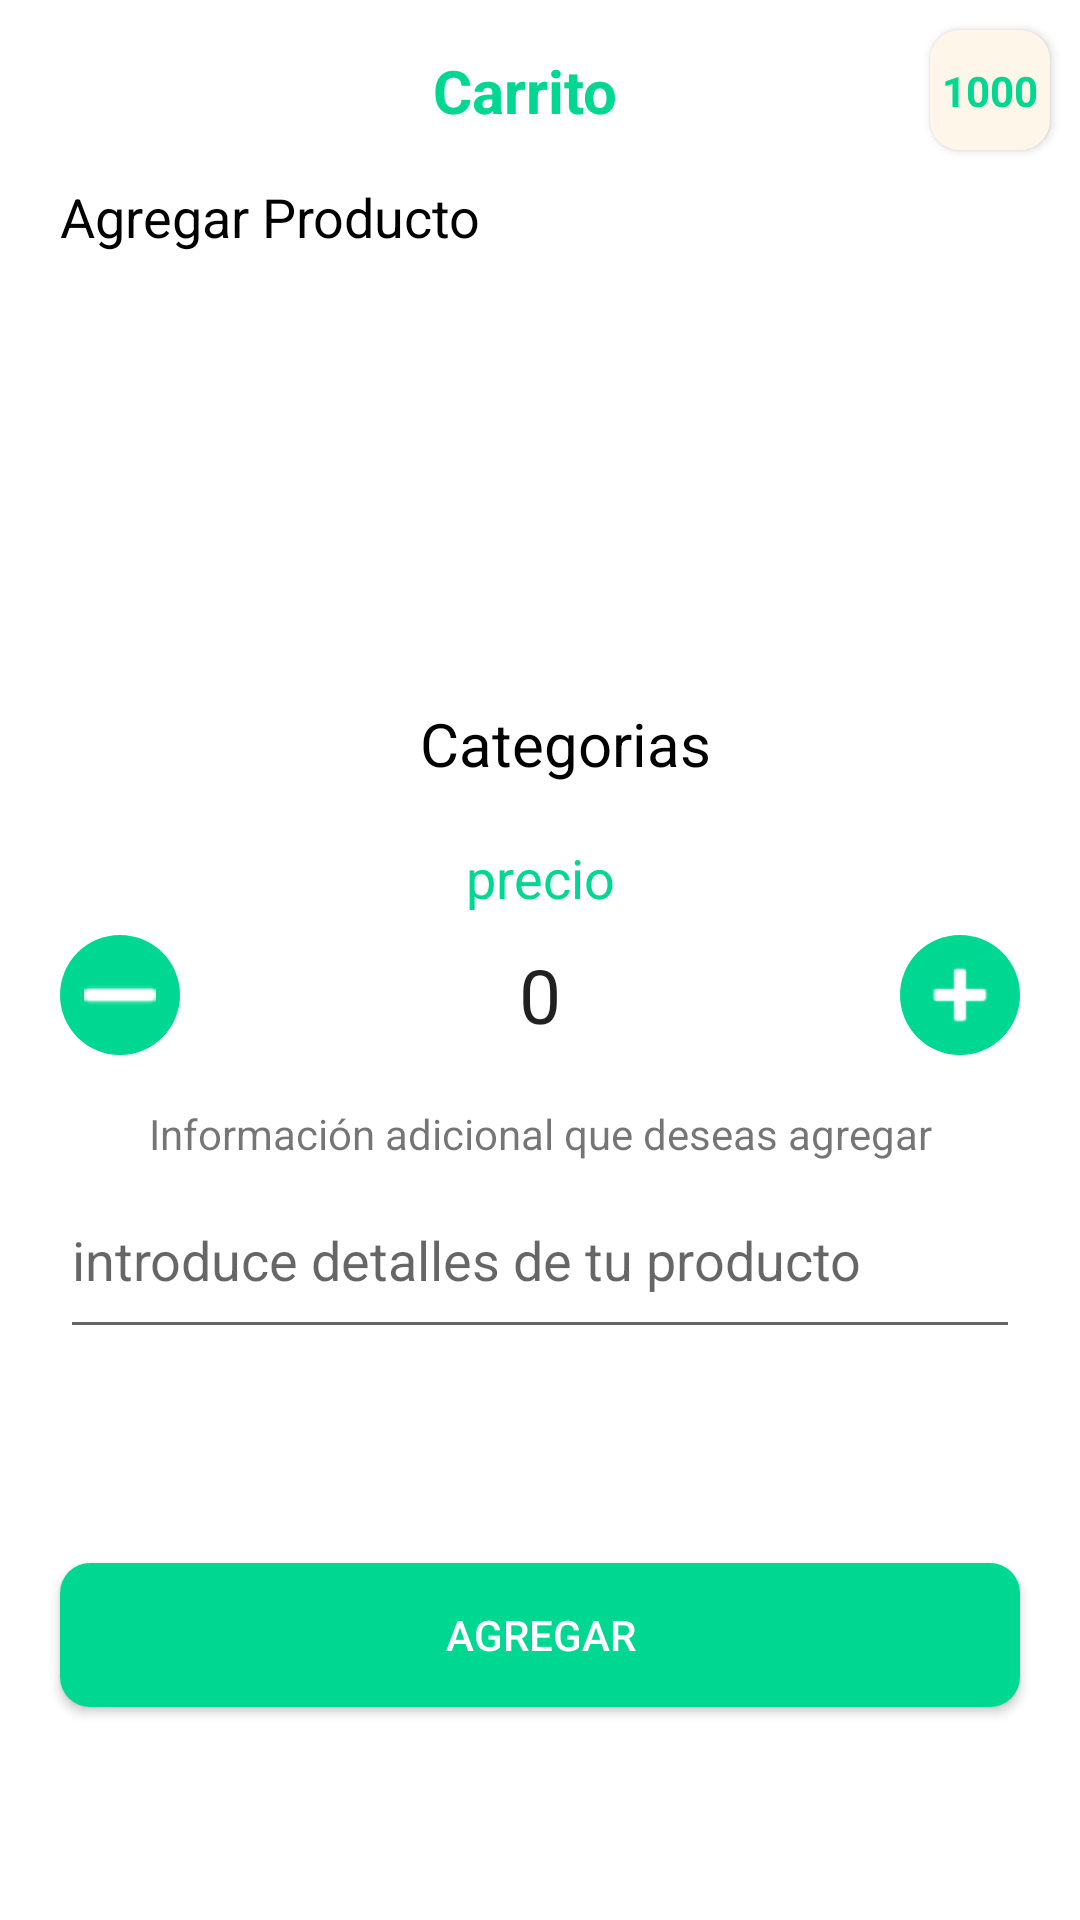

Icon click points for this 1080 x 1920 phone screenshot, format [x,y]:
add: [960,995]
minus: [120,995]
